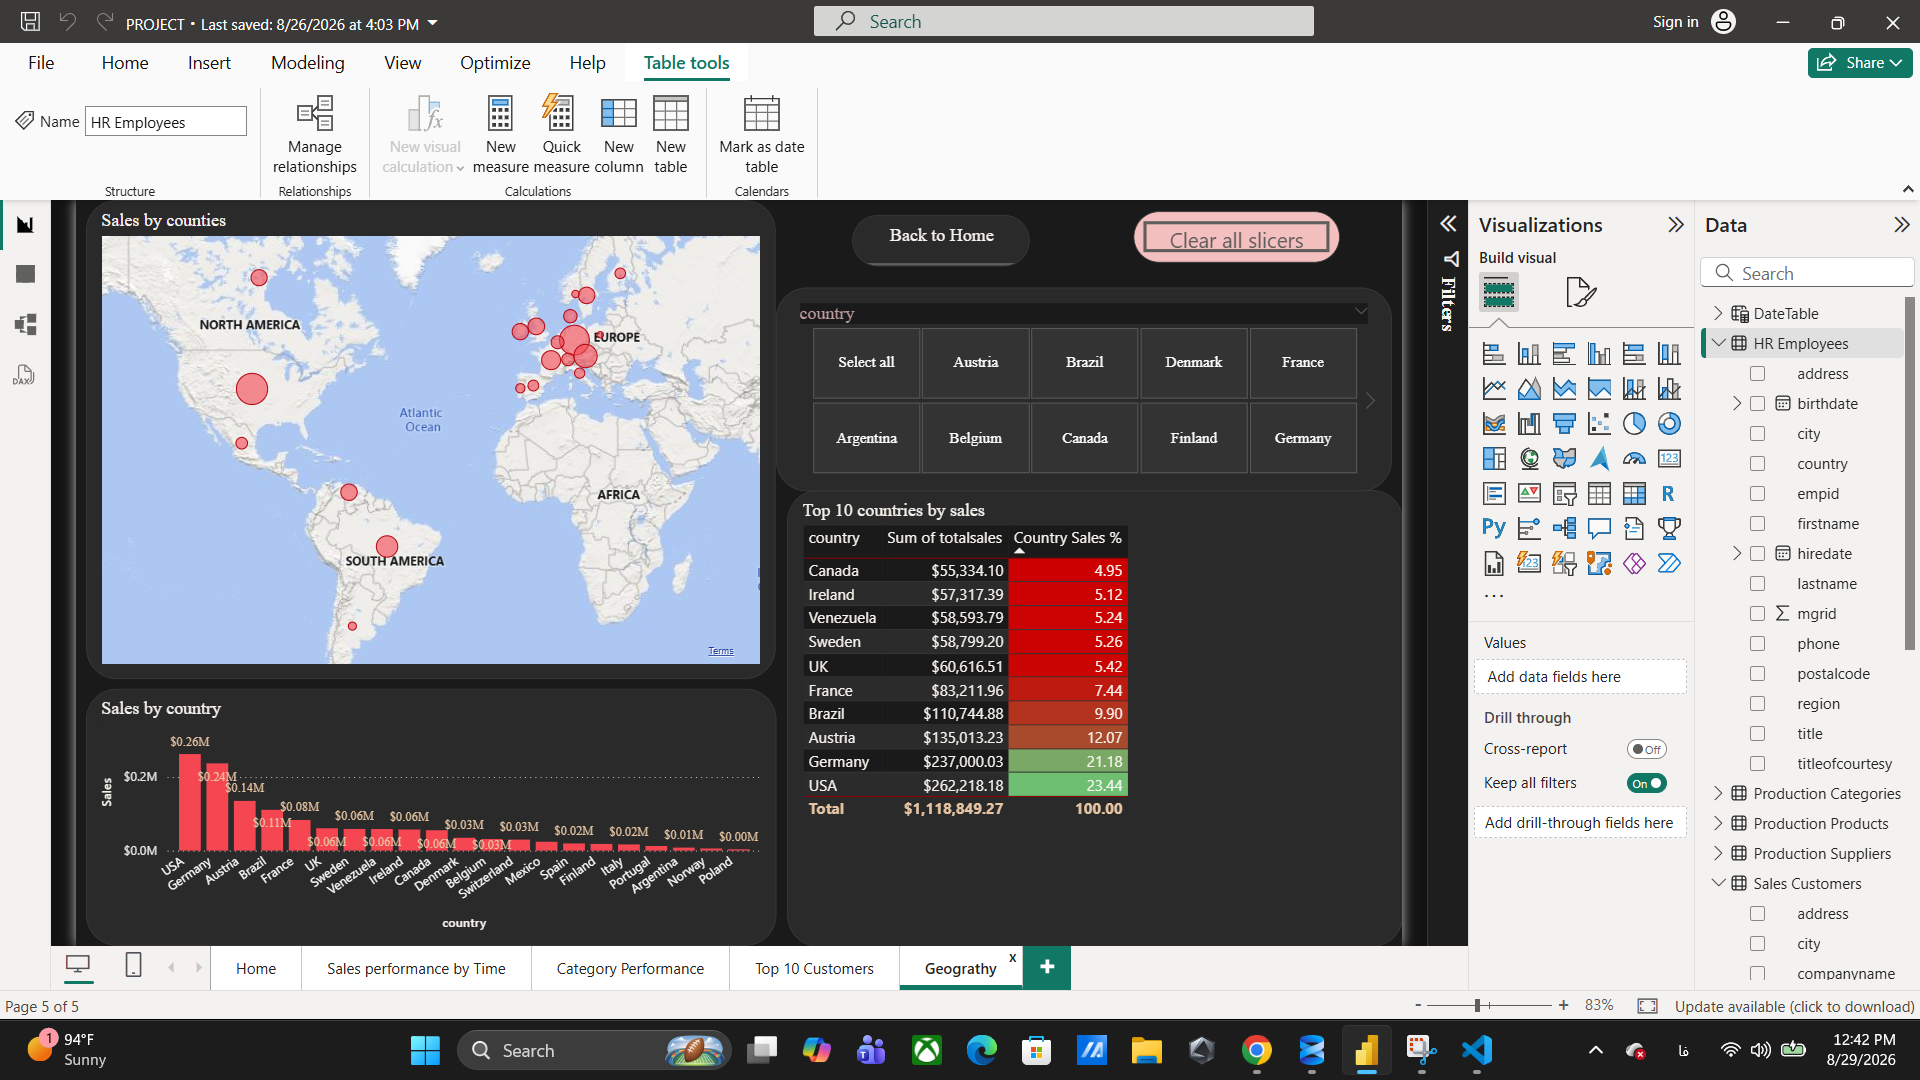

The dashboard page shown, as its layout file describes it:
{"tool":"powerbi","page":{"name":"Geograthy","canvas":[1280,720],"ordinal":4},"visuals":[{"type":"map","title":"Sales by counties","fields":{"Category":["Sales Customers.country"],"Size":["Sum(Sales OrderDetails.totalsales)"]},"box":[9.6,0,665.5,462.4],"z":0},{"type":"clusteredColumnChart","title":"Sales by country","fields":{"Y":["Sum(Sales OrderDetails.totalsales)"],"Category":["Sales Customers.country"]},"box":[10,472,666,248],"z":1000},{"type":"tableEx","title":"Top 10 countries by sales","fields":{"Values":["Sales Customers.country","Sum(Sales OrderDetails.totalsales)","Sales OrderDetails.Country Sales %"]},"box":[686.1,279.9,594.2,440.5],"z":2000},{"type":"slicer","fields":{"Values":["Sales Customers.country"]},"box":[675.6,84.1,594.4,196.7],"z":3000},{"type":"actionButton","box":[1020.6,11.4,199.6,49.9],"z":4000},{"type":"actionButton","title":"Back to Home","box":[749.2,14.5,171.3,49.5],"z":5000}]}

Visuals, with their boxes on the page's 1280x720 design canvas (x1, y1, x2, y2). These are canvas units, not pixel positions in the 1920x1080 screenshot, which may show the page scaled, cropped or inside an application window:
"Sales by counties" map: {"x1": 10, "y1": 0, "x2": 675, "y2": 462}
"Sales by country" clusteredColumnChart: {"x1": 10, "y1": 472, "x2": 676, "y2": 720}
"Top 10 countries by sales" tableEx: {"x1": 686, "y1": 280, "x2": 1280, "y2": 720}
slicer - Sales Customers.country: {"x1": 676, "y1": 84, "x2": 1270, "y2": 281}
actionButton: {"x1": 1021, "y1": 11, "x2": 1220, "y2": 61}
"Back to Home" actionButton: {"x1": 749, "y1": 14, "x2": 920, "y2": 64}
